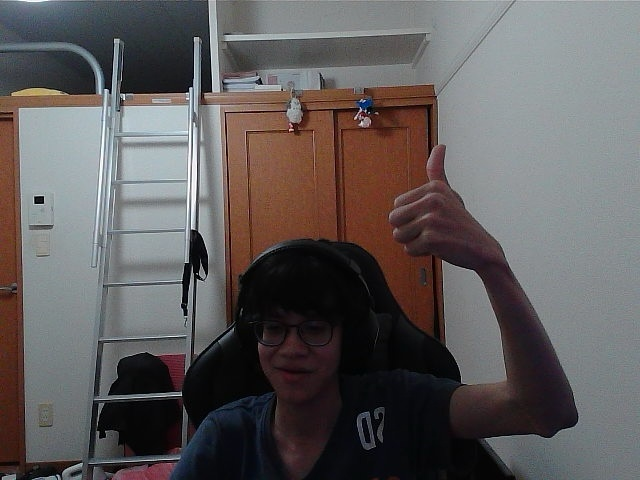thumb_up: (397, 150, 476, 247)
